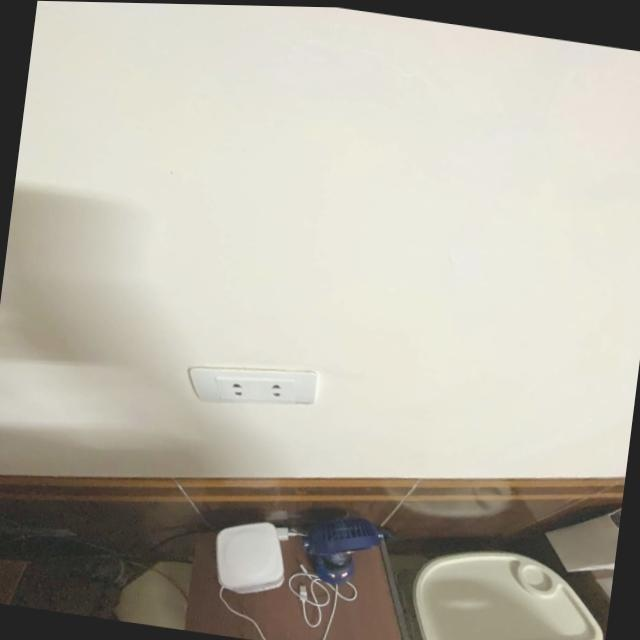outlet: (184, 352, 319, 418)
